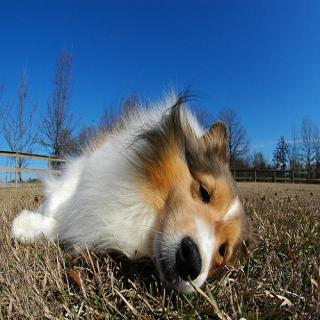dog: (144, 108, 258, 305)
nose: (174, 233, 203, 284)
